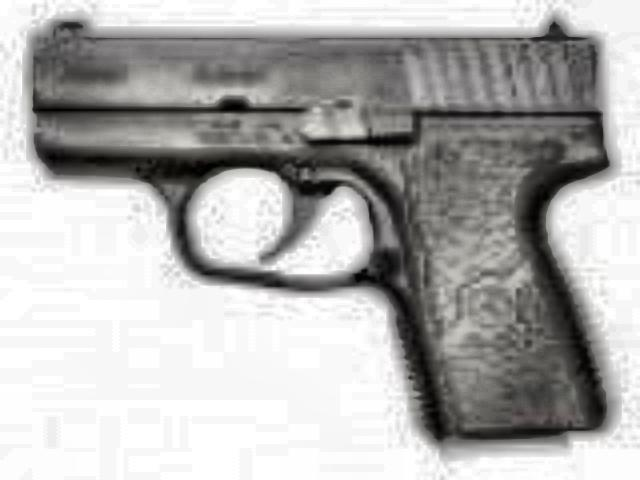pistol: (24, 12, 612, 448)
